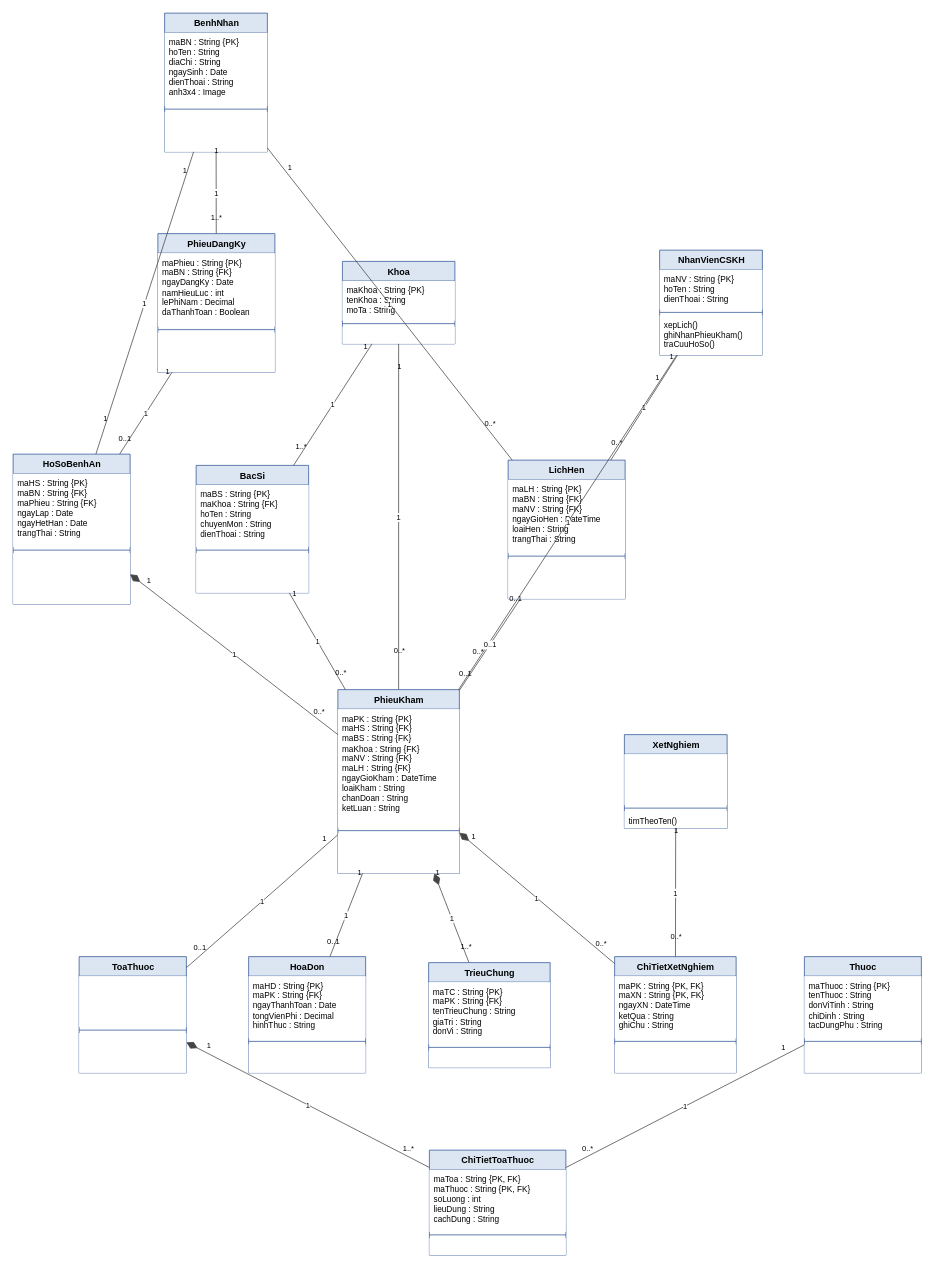
The diagram is 935 pixels wide and 1271 high, and some of its shapes have lost their labels. Each missing label, with the centre of its shape:
"chiDinh() nhapKetQua()" belongs at point 675,1058.
"dangKyKham() capNhatThongTin() timKiem(tuKhoa)" belongs at point 215,132.
"datLich() doiLich() huyLich()" belongs at point 566,578.
"ghiNhan()" belongs at point 489,1058.
"ghiNhan() capNhat() xemChiTiet()" belongs at point 398,853.
"khamBenh() chiDinhXetNghiem() keToa()" belongs at point 252,572.
"lapPhieu() tinhLePhi() xacNhanDongPhi()" belongs at point 216,352.
"lapToa() inToa() capNhat()" belongs at point 132,1052.
"layDSBacSi()" belongs at point 398,335.
"maToa : String {PK} maPK : String {FK} ngayKe : Date loiDan : String" belongs at point 132,1001.
"maXN : String {PK} tenXN : String moTa : String donGia : Decimal" belongs at point 675,779.
"taoHoSo() traCuu(maHS) giaHan() xemLichSu()" belongs at point 71,578.
"thanhToan() inHoaDon()" belongs at point 306,1058.
"timTheoTen(tuKhoa) kiemTraThuoc()" belongs at point 862,1058.
"tinhSoLuong()" belongs at point 497,1246.
